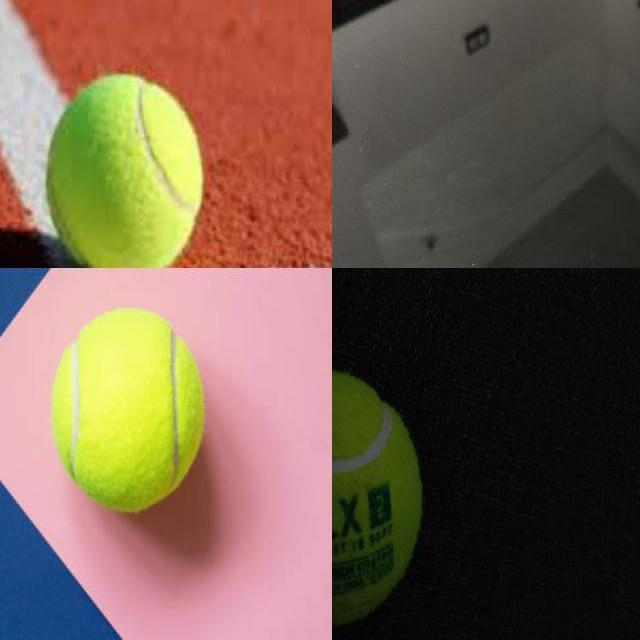tennis-ball: (50, 306, 204, 514), (43, 71, 206, 267), (332, 371, 422, 629)
